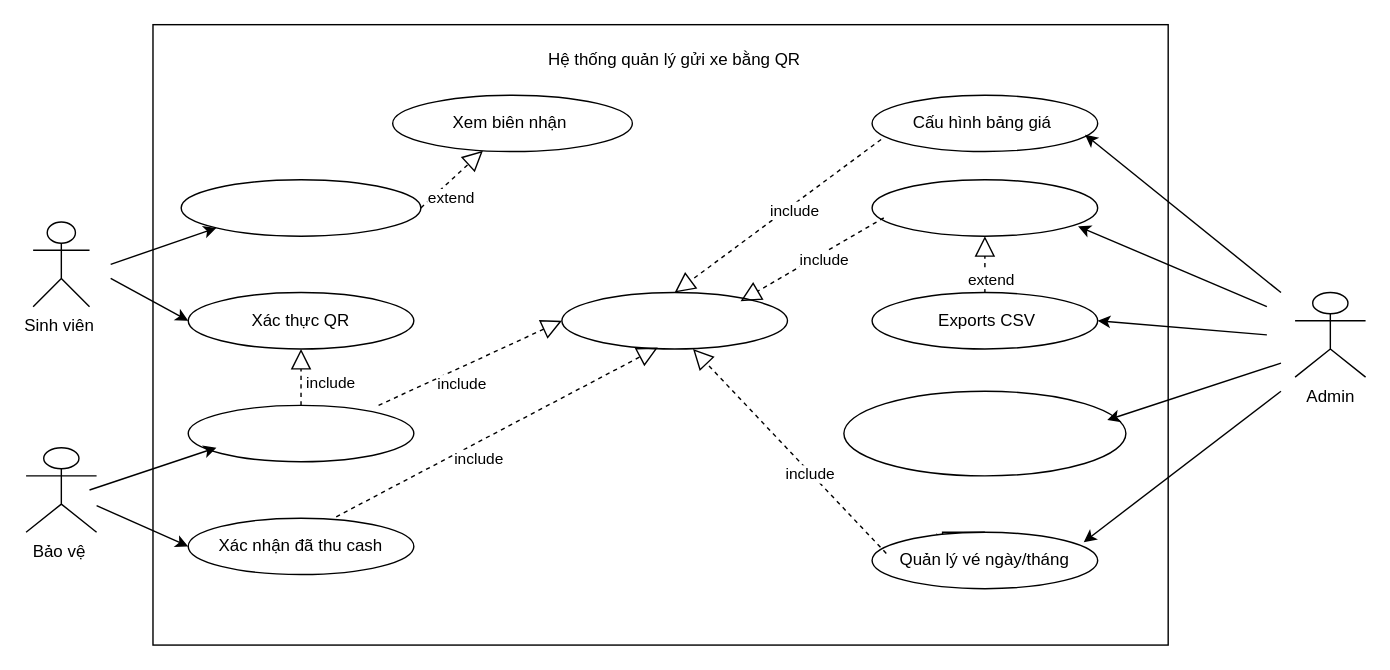
Some shapes in this 1390 by 670 pixel diagram are drawn without their labels. Each missing label, with the box of its shape:
Báo cáo: (871, 178, 1098, 236)
Quét QR IN/OUT: (187, 404, 414, 462)
Quản trị người dùng, phân quyền: (842, 390, 1126, 476)
Xem lịch sử: (180, 178, 421, 236)
Đăng nhập xác thực: (560, 291, 787, 349)
